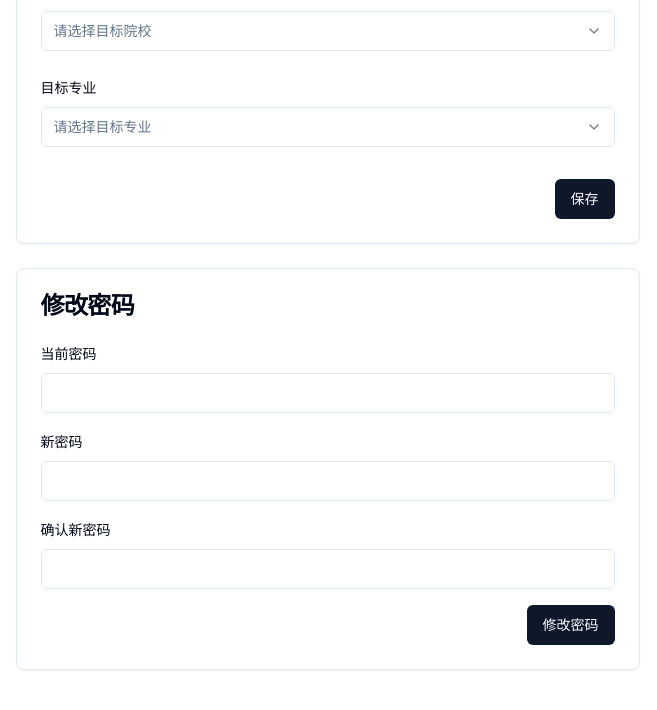
Test: StudentProfilePage password change › submits password change when confirmation matches
The image size is (657, 710).
(page scrolled)
Type "old-pass" into the password field labelled "当前密码" at (328, 393), box [40,373,614,413]
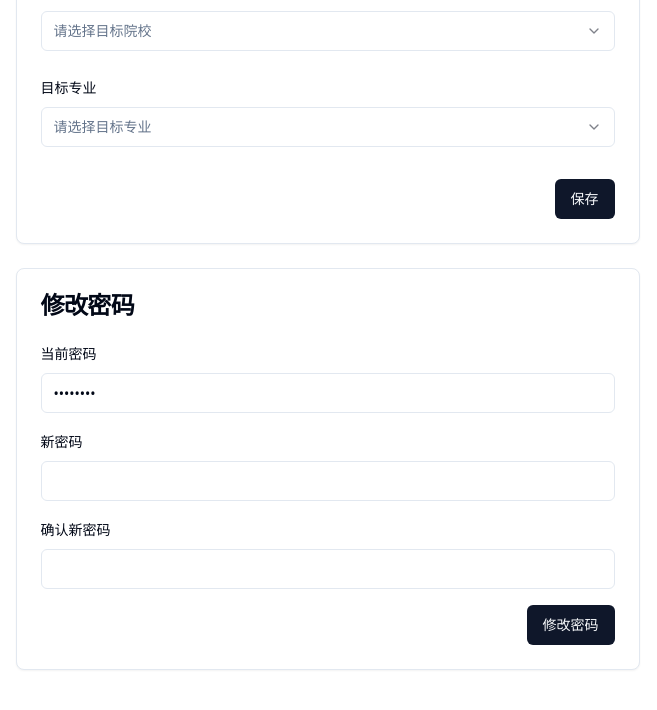
Type "new-pass-123" into the password field labelled "新密码" at (328, 481), box [40,461,614,501]
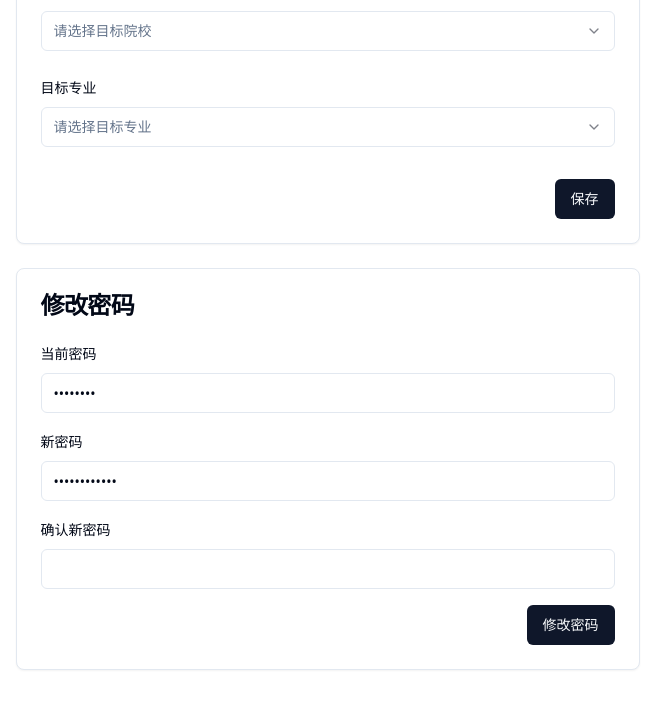
Type "new-pass-123" into the password field labelled "确认新密码" at (328, 569), box [40,549,614,589]
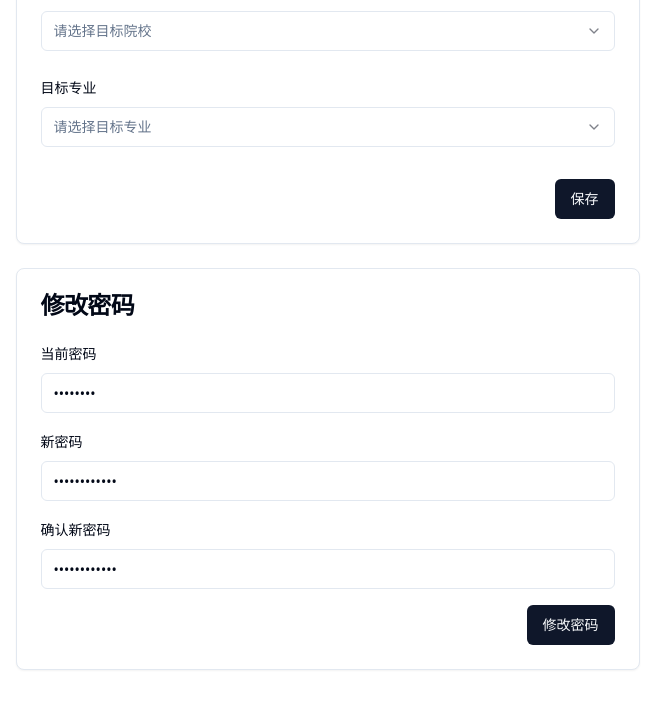
Click the button "修改密码" at (570, 625), box [526,605,614,645]
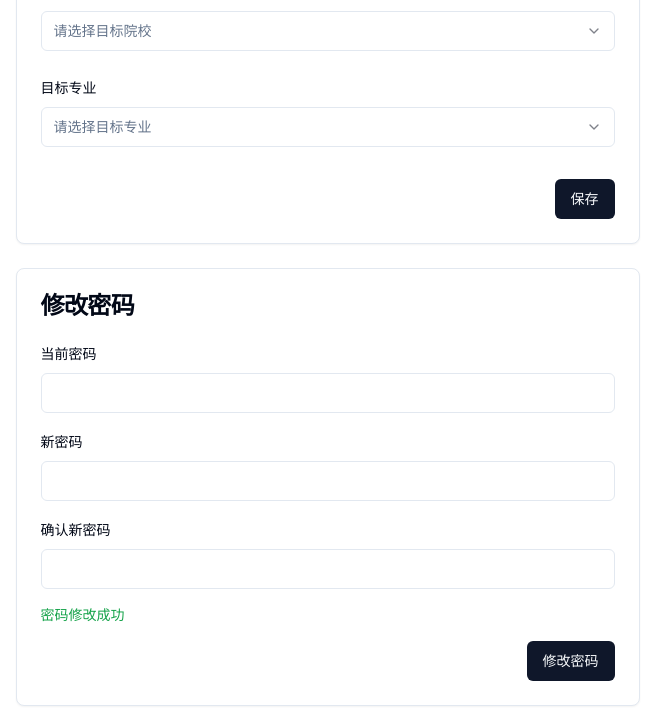
Check: the text "密码修改成功" is shown, box [40,605,124,624]
